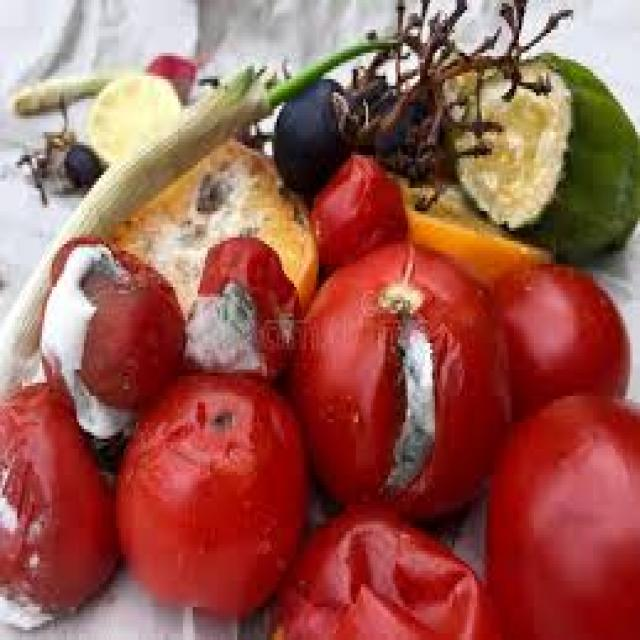organic waste: (0, 36, 395, 385), (292, 237, 514, 528), (114, 366, 304, 617), (96, 132, 316, 346), (482, 389, 637, 637), (452, 53, 638, 251), (267, 498, 484, 637), (37, 238, 188, 432), (0, 379, 116, 630), (484, 257, 630, 409), (180, 234, 302, 373), (398, 172, 546, 284), (402, 178, 548, 277), (15, 50, 195, 112), (309, 148, 403, 260), (86, 69, 183, 165), (274, 79, 356, 185), (366, 82, 437, 175), (62, 145, 99, 182)
